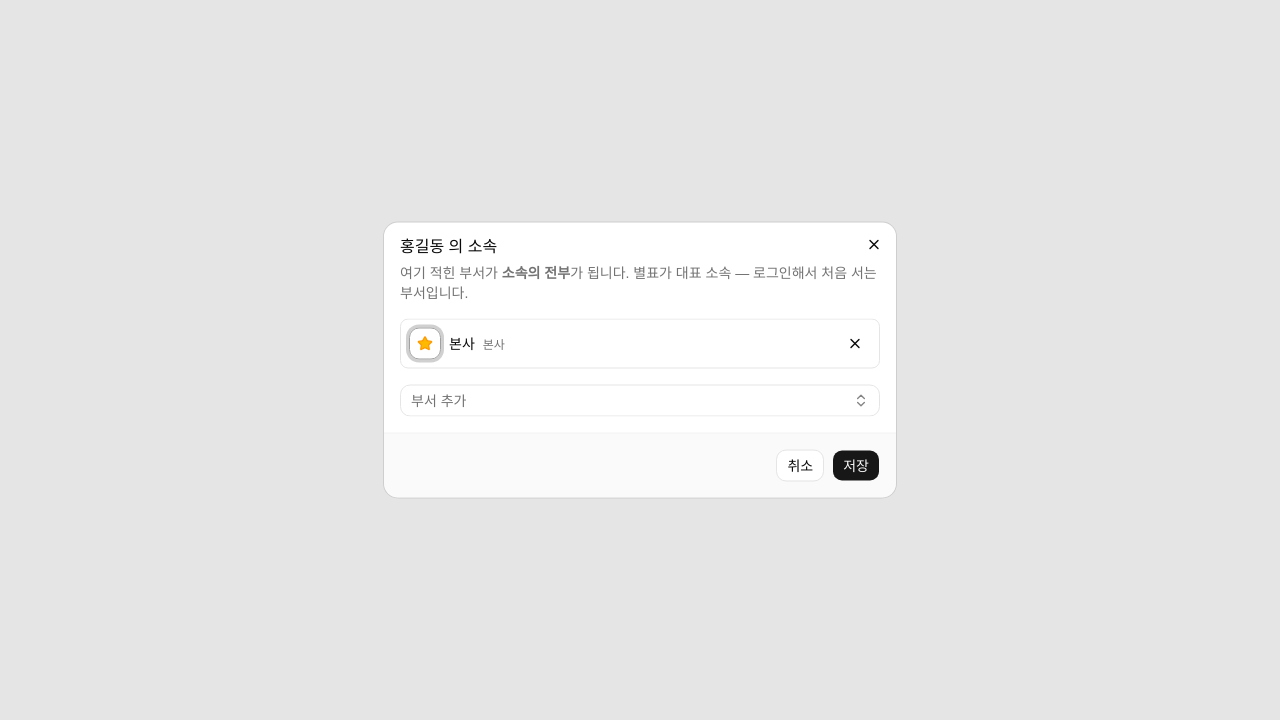
it: 계정의 소속 변경 › 소속을 다 빼면 저장할 수 없다
Click the button named "본사 소속 빼기" at (855, 344), box [839, 328, 871, 360]
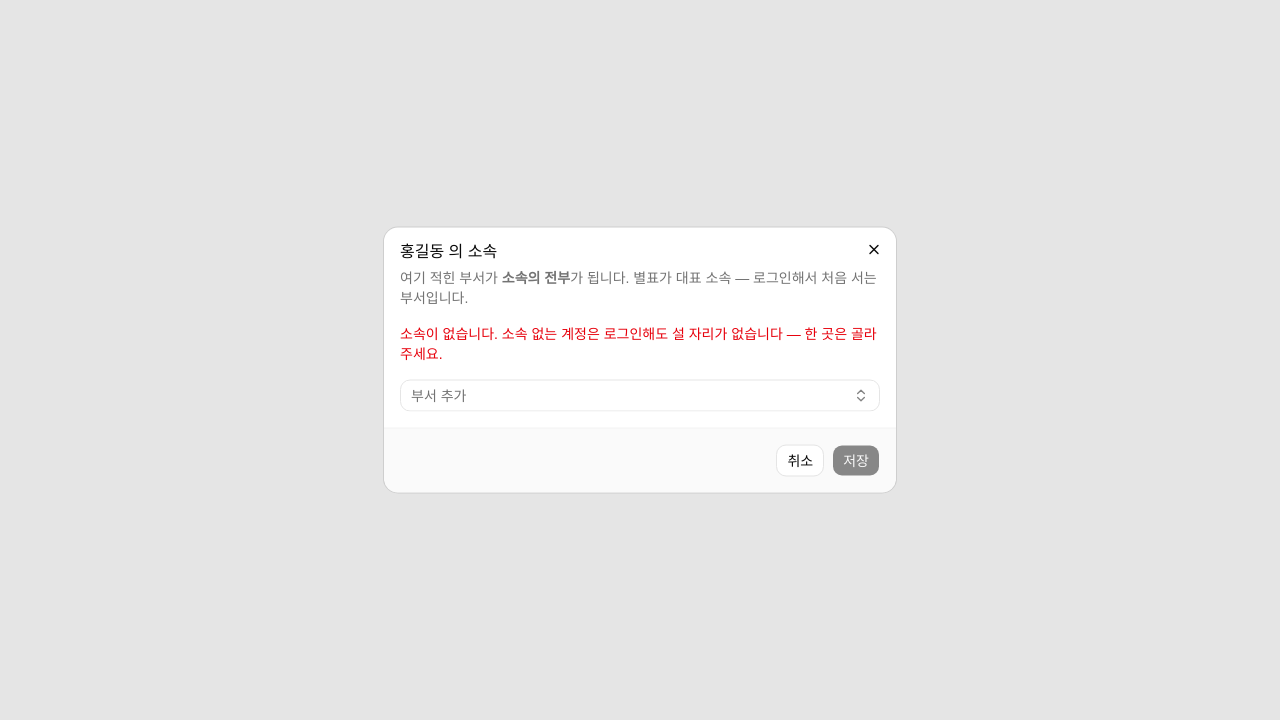
Check: the button "저장" is disabled, box [832, 444, 880, 476]
Check: the list item "소속이 없습니다. 소속 없는 계정은 로그인해도 설 자리가 없습니다 — 한 곳은 골라 주세요." is shown, box [400, 324, 880, 364]
